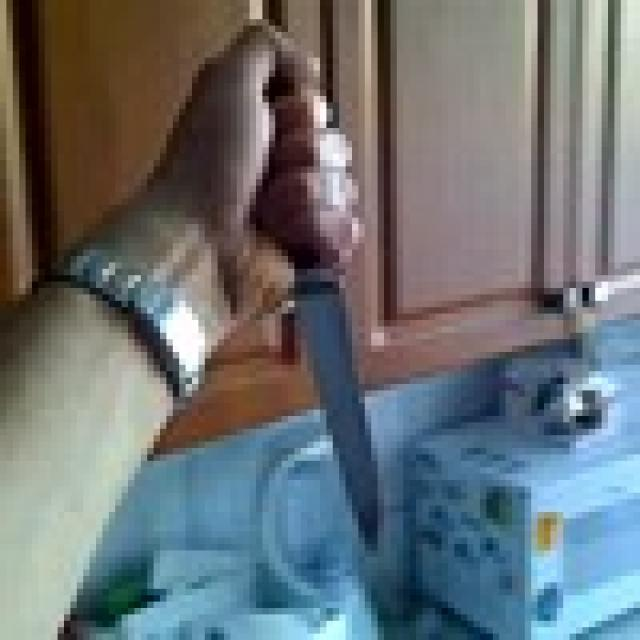Knife: (262, 70, 390, 550)
